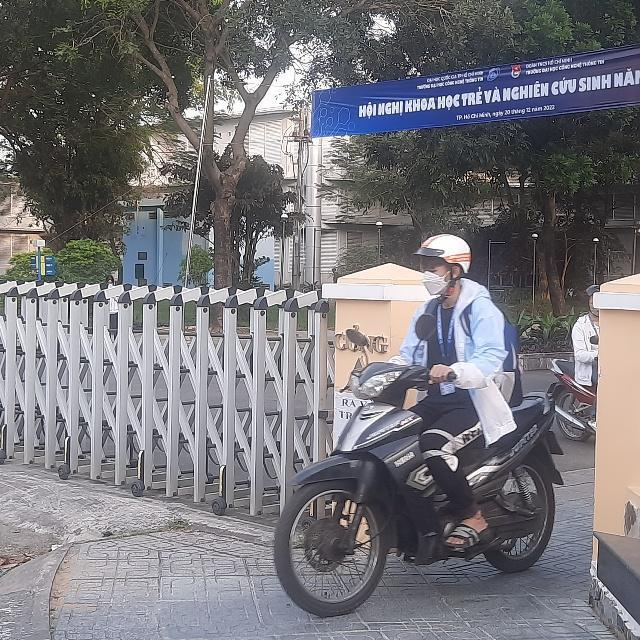Helmet: (416, 234, 468, 294)
